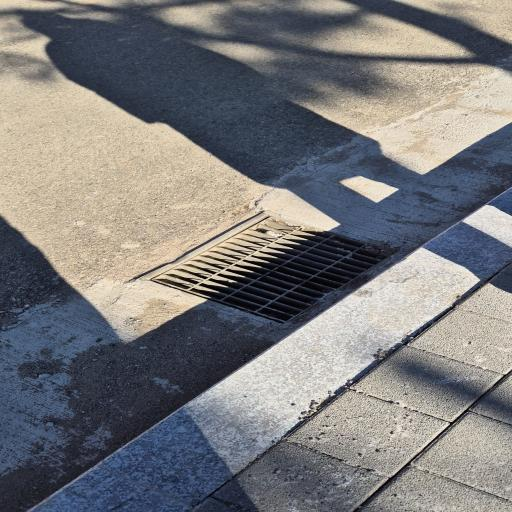drain: (148, 215, 385, 322)
